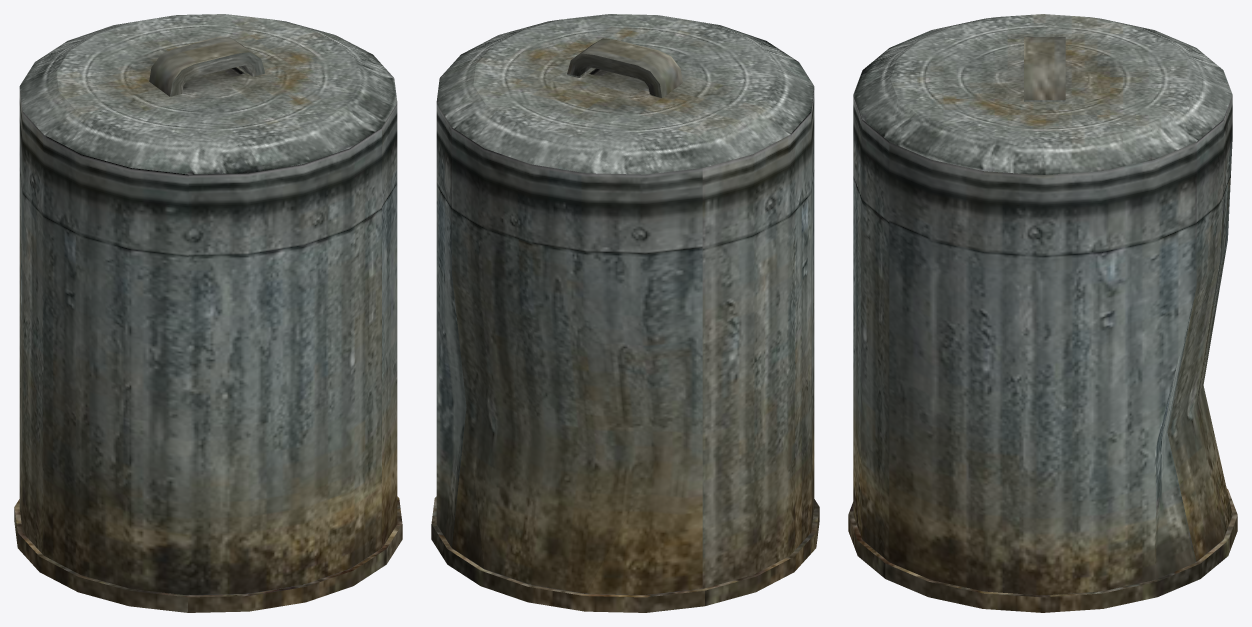
The model's file is M_3_beatup_trashcan.fbx.
3 views of the same model, side by side, from view 1: azimuth 30°, elevation 25°; view 2: azimuth 150°, elevation 25°; view 3: azimuth 270°, elevation 25° (orthographic).
Visible parts, largest first — view 1: pCylinder1, pCube3; view 2: pCylinder1, pCube3; view 3: pCylinder1, pCube3.
Boxes of the visible parts, x1,y1,x2,y2 form: pCylinder1: [14, 14, 402, 612]; pCube3: [149, 37, 264, 96]; pCylinder1: [431, 14, 819, 612]; pCube3: [567, 38, 682, 97]; pCylinder1: [848, 14, 1237, 612]; pCube3: [1024, 37, 1065, 101].
Size of the model in its own units: 6.04 by 8.19 by 6.04.
Materials: 1 (1 with a texture image).
